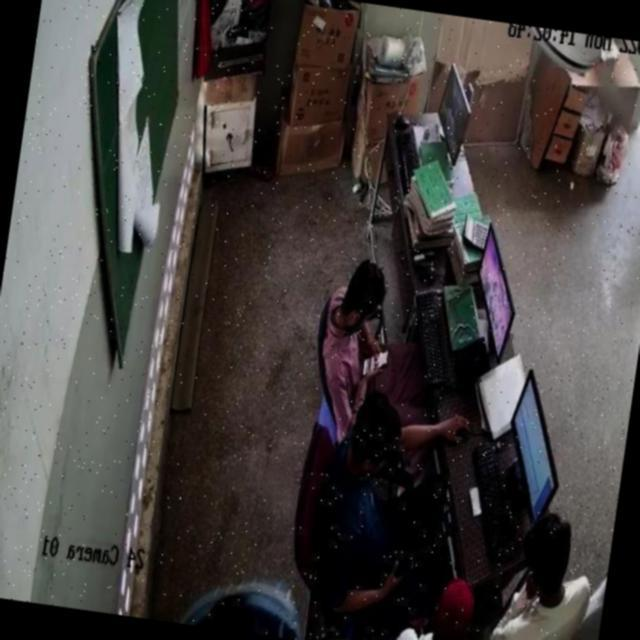person: (314, 254, 414, 435), (327, 402, 420, 590), (477, 521, 591, 640), (194, 562, 305, 640), (568, 488, 619, 640), (398, 567, 473, 640)
